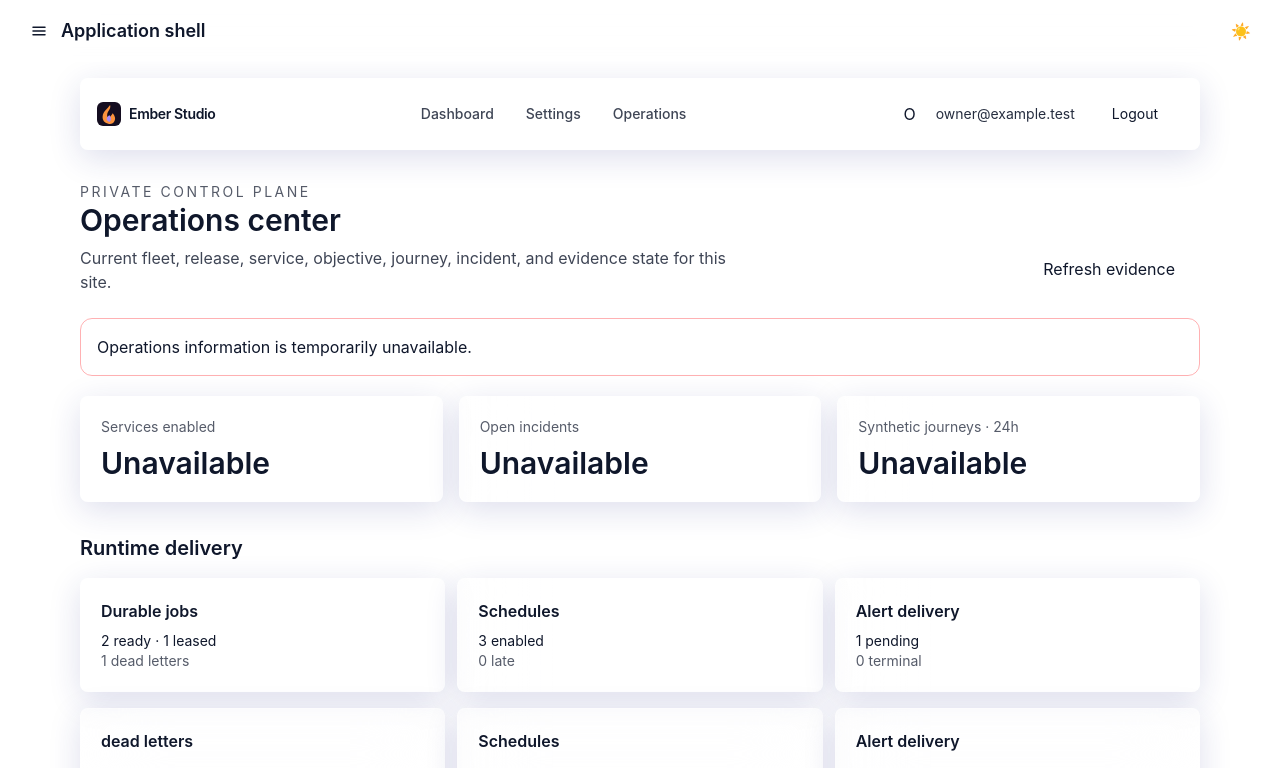
shows explicit failure and supports retry
This screenshot has width=1280, height=768.
Expected: the message shows "temporarily unavailable", [97,337,472,357]
Expected: the text "Unavailable" is shown 3 times, [101,445,270,481]; [480,445,649,481]; [858,445,1027,481]
Click the button "Refresh evidence". click: x=1109, y=269
box: [1018,244,1200,294]
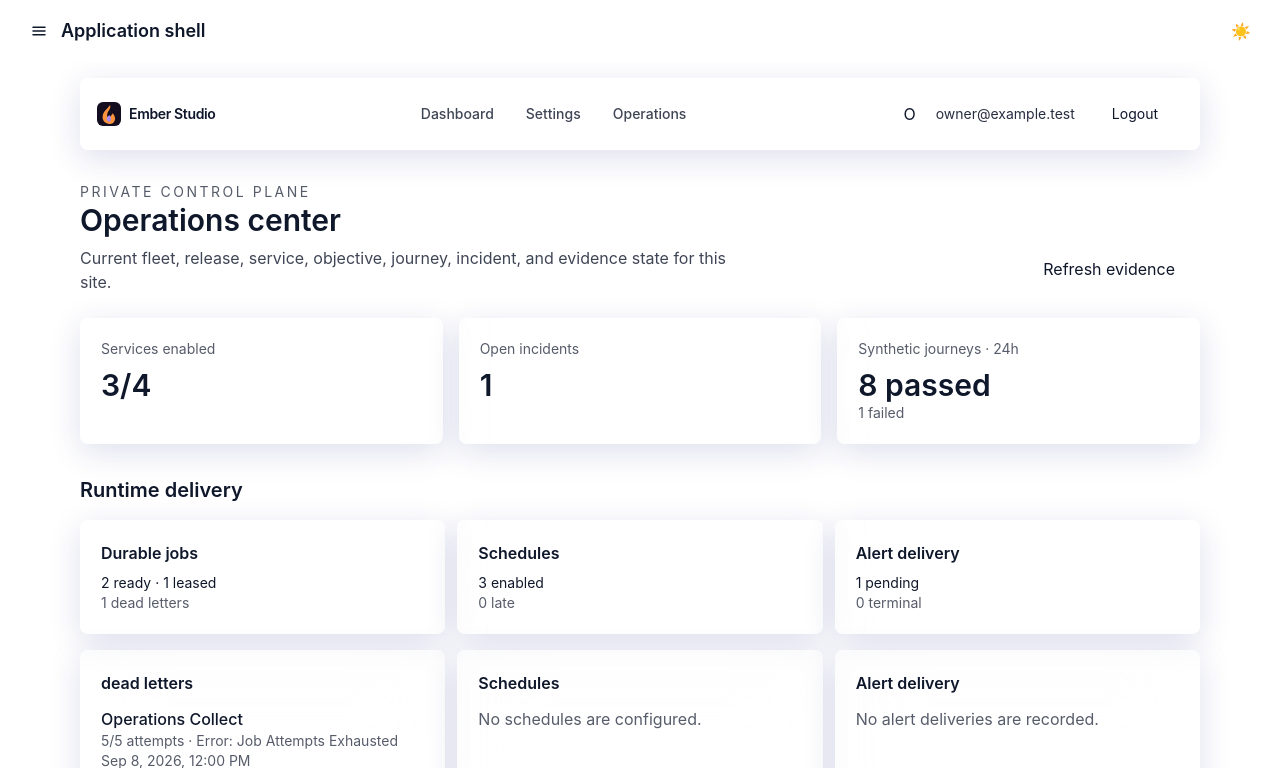
Result: the text "3/4" is shown at [101,367,151,403]
